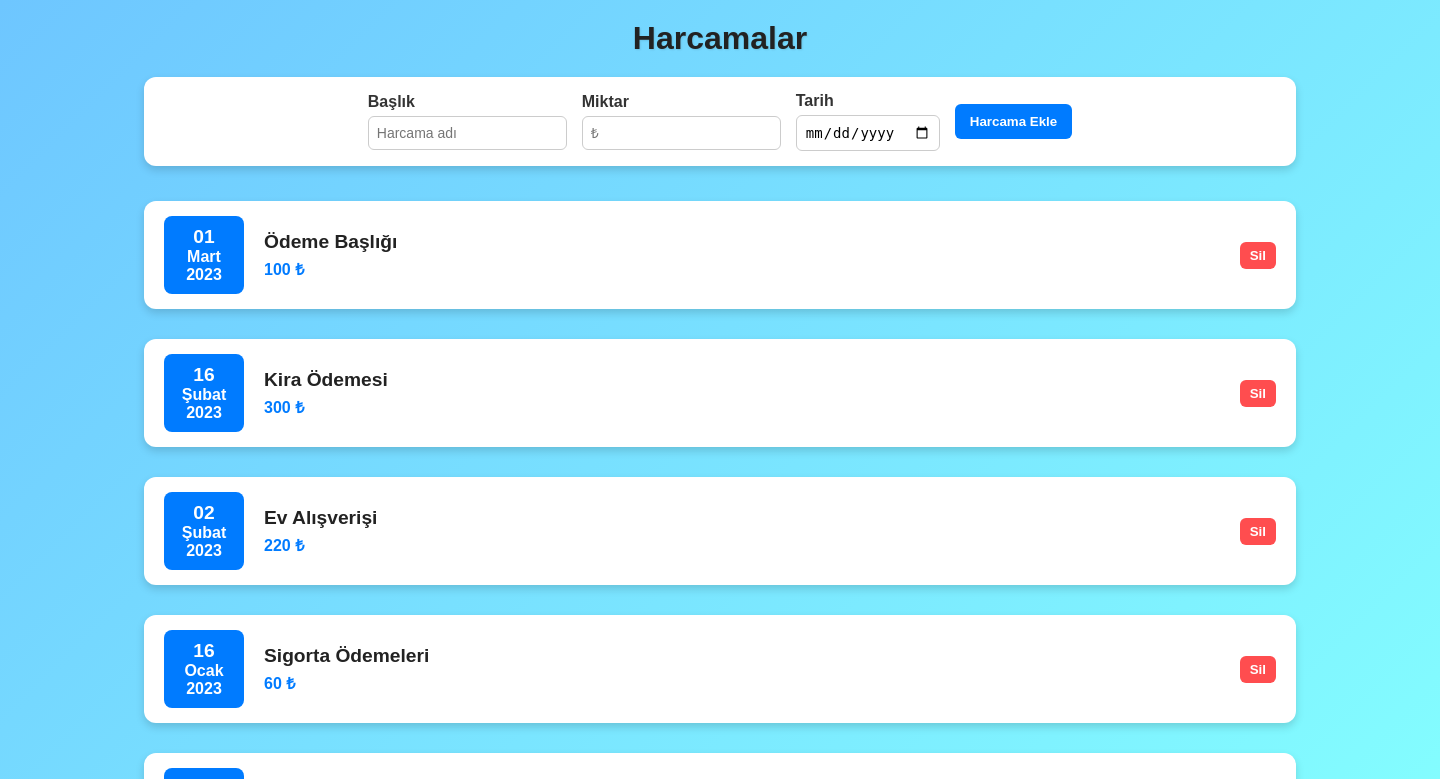
Scenario: Sil butonuna tıklanınca harcama listeden kalkar
Step 1. Click the button "Sil" in the row of "Ödeme Başlığı" → (1258, 255), box [1240,242,1276,268]
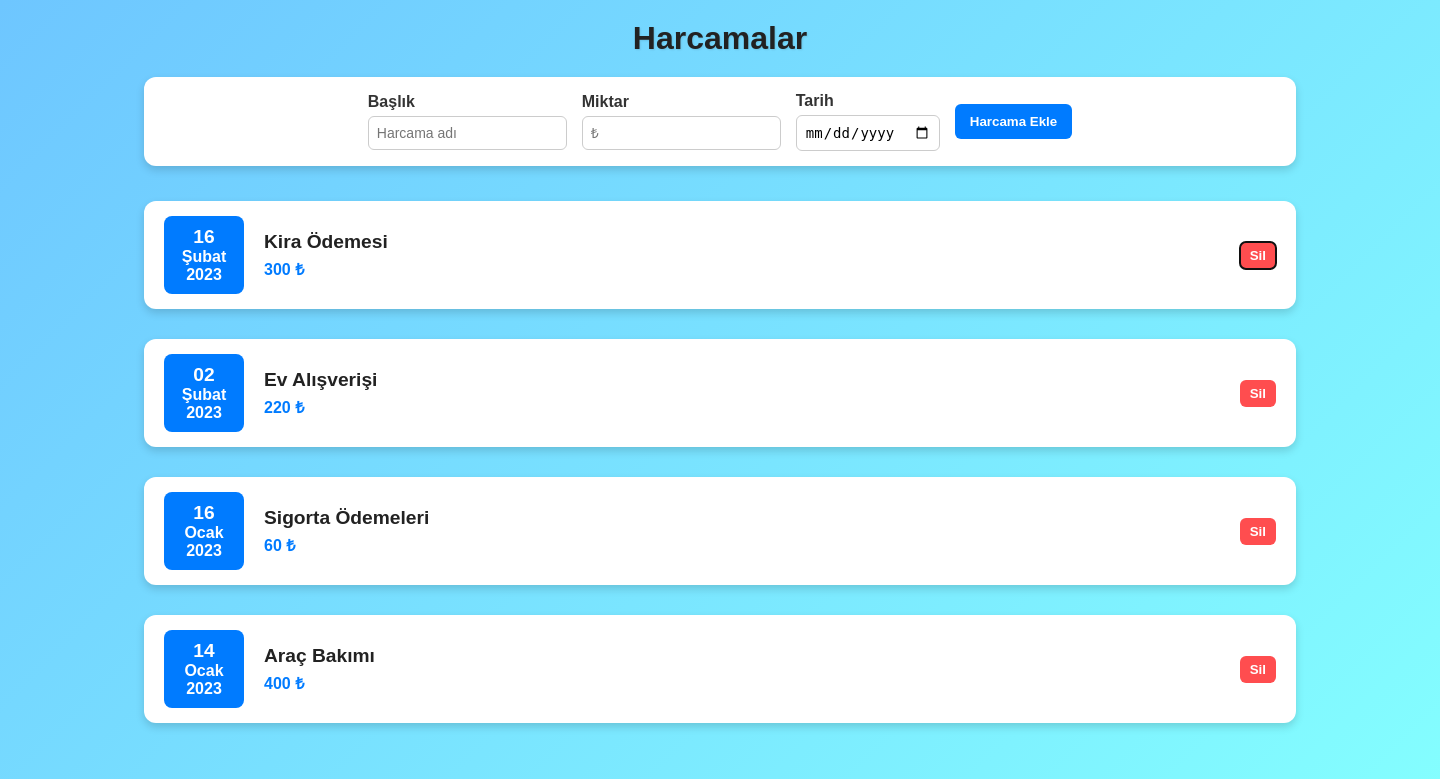
Check: the number of buttons "Sil" is 4, box [1240,242,1276,268]; [1240,380,1276,406]; [1240,518,1276,544]; [1240,656,1276,682]
